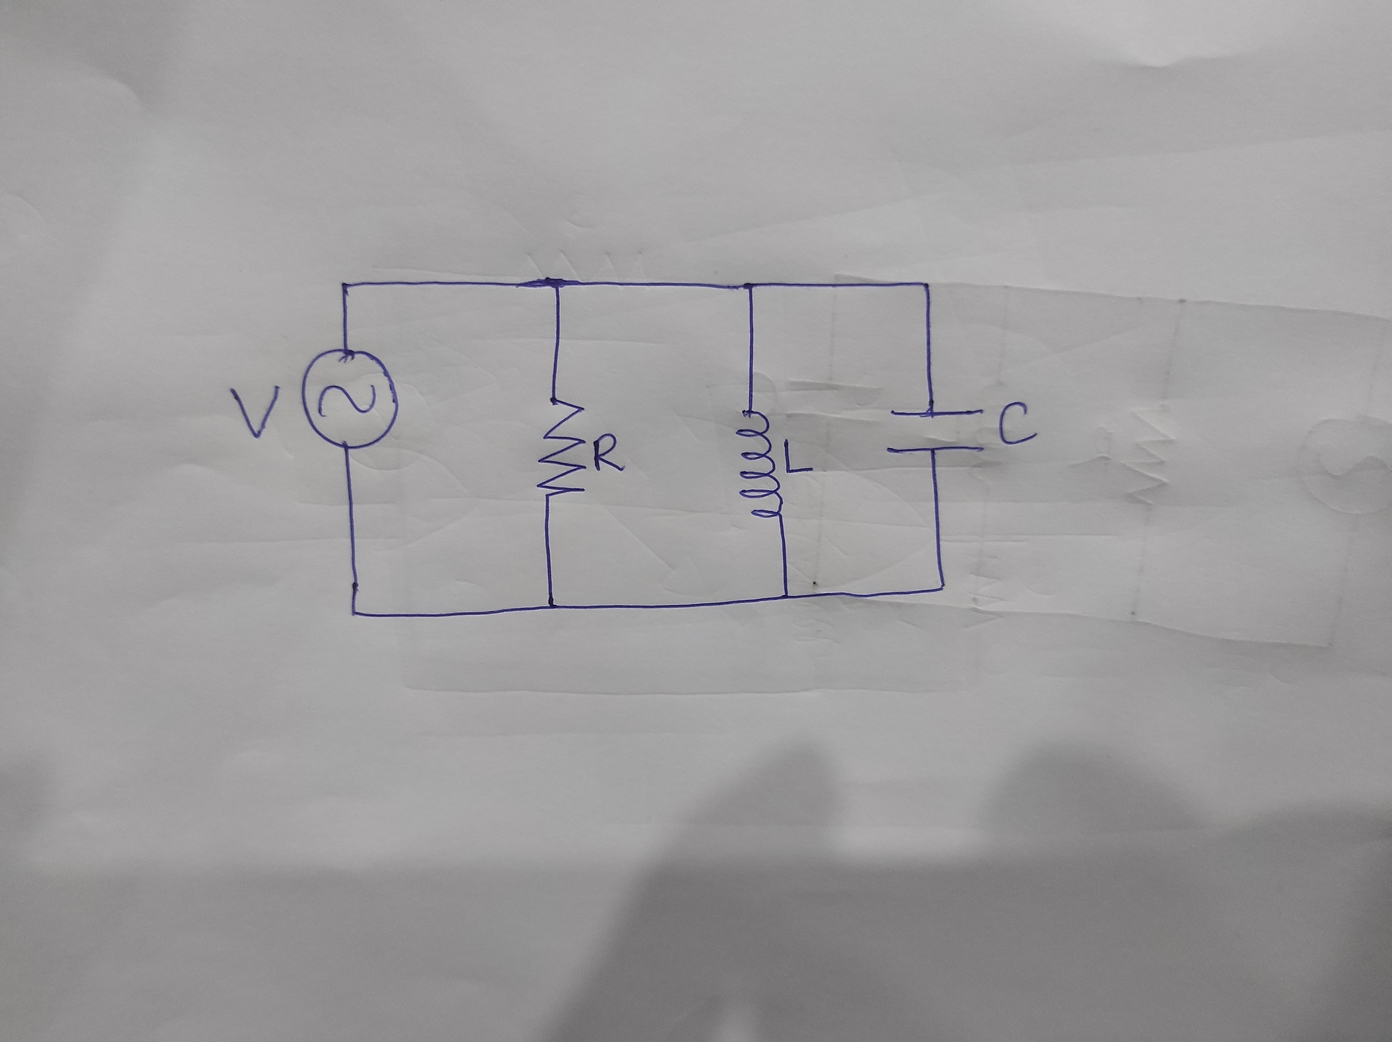capacitor.unpolarized: (881, 401, 989, 459)
inductor: (732, 406, 785, 519)
junction: (547, 273, 572, 297), (738, 277, 762, 299), (929, 576, 951, 599), (914, 275, 937, 296), (542, 597, 562, 615), (335, 278, 356, 296), (776, 586, 794, 604), (344, 604, 364, 621)
resistor: (531, 394, 590, 502)
text: (227, 383, 285, 442), (997, 397, 1040, 450), (592, 430, 626, 473), (781, 435, 817, 474)
voltage.dc_ac: (295, 343, 401, 451)
